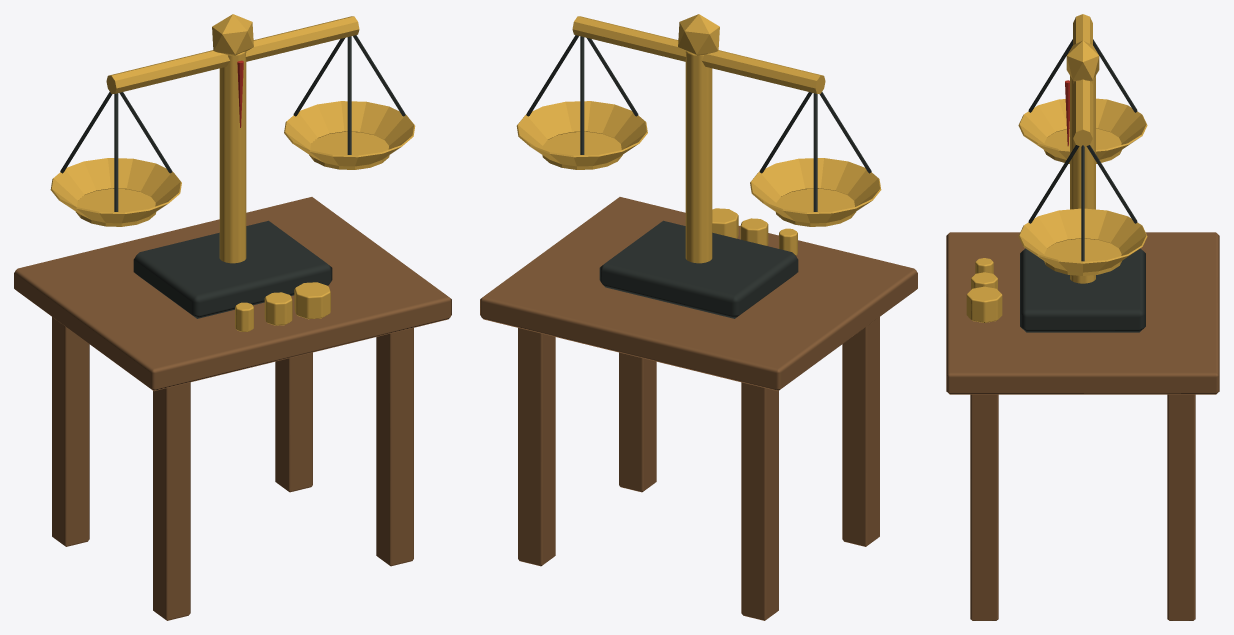
File: GoldScale.glb
The picture shows the model from 3 angles, left to right: view 1: azimuth 30°, elevation 25°; view 2: azimuth 150°, elevation 25°; view 3: azimuth 270°, elevation 25°; orthographic projection. The views are drawn at different scales.
Parts seen in each view (by area): view 1: GoldScale; view 2: GoldScale; view 3: GoldScale.
Part boxes in pixels (x1=…): GoldScale: x1=14, y1=14, x2=451, y2=620; GoldScale: x1=480, y1=14, x2=917, y2=620; GoldScale: x1=946, y1=14, x2=1219, y2=620.
Bounding box in the file's own units: 0.716 × 1.05 × 0.5.
